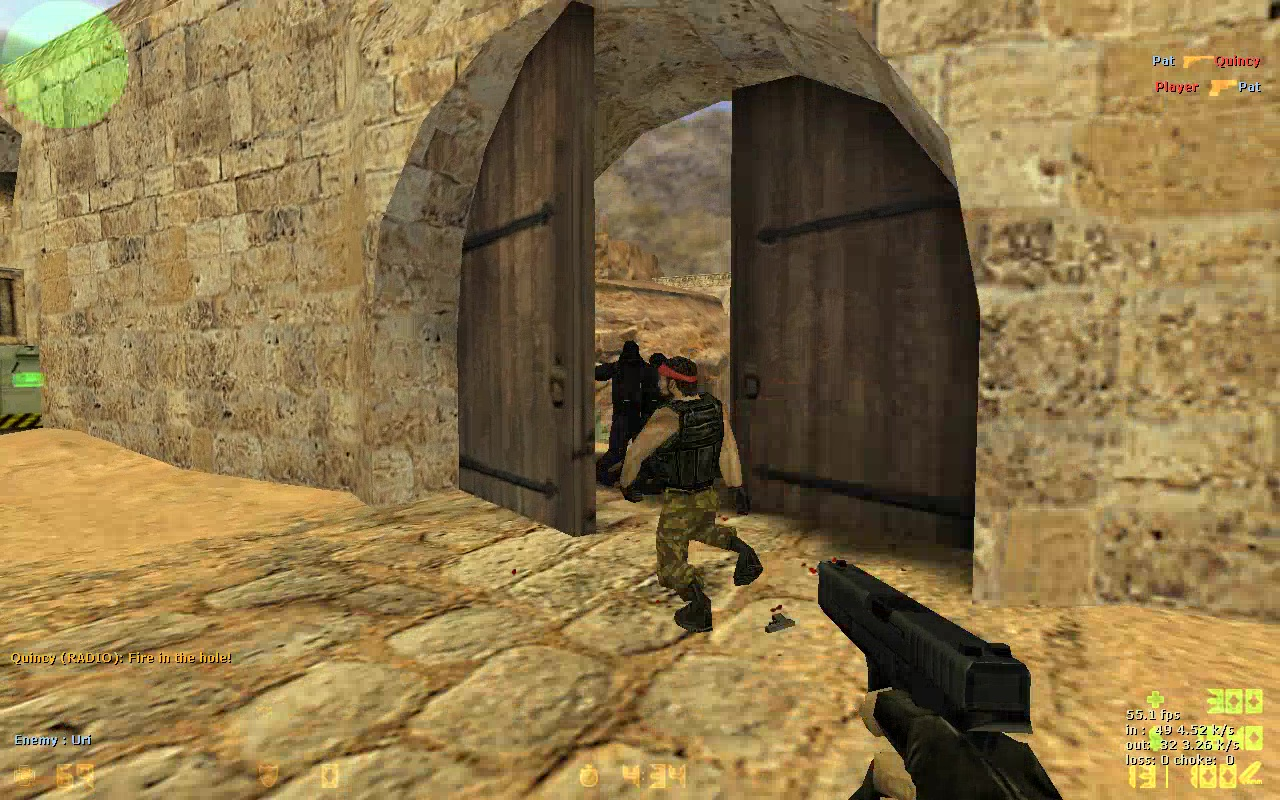terr1: (619, 357, 764, 631)
